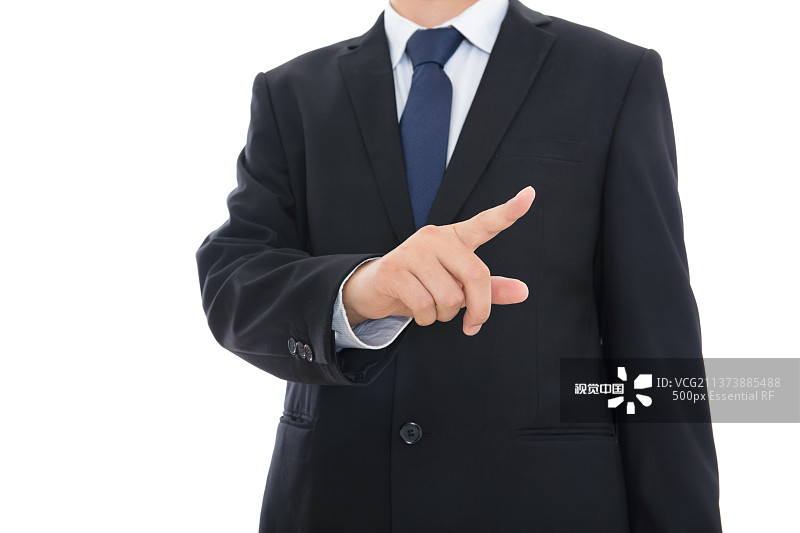no-phone: (331, 178, 560, 346)
